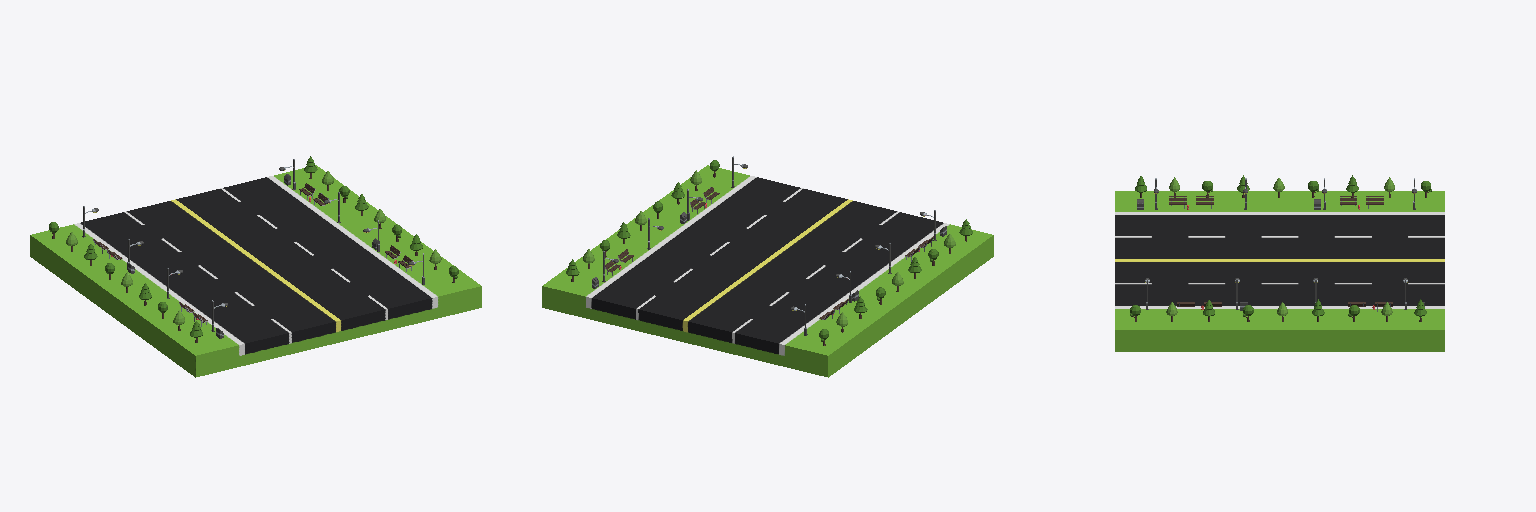
3 renders of one model, left to right at view 1: azimuth 30°, elevation 25°; view 2: azimuth 150°, elevation 25°; view 3: azimuth 270°, elevation 25°, orthographic.
Visible parts, largest first — view 1: Object077; view 2: Object077; view 3: Object077.
Boxes of the visible parts, x1=… form: Object077: x1=30, y1=156, x2=481, y2=377; Object077: x1=542, y1=156, x2=993, y2=377; Object077: x1=1115, y1=175, x2=1444, y2=351.
Size of the model in its own units: 2252 by 395 by 2252.
Materials: 1 (1 with a texture image).